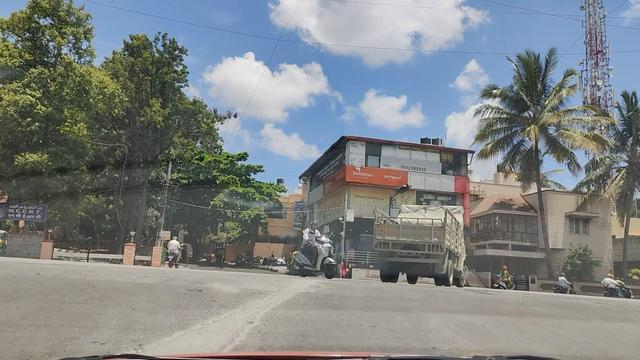HMV: (378, 196, 456, 284)
LMV: (288, 223, 345, 275)
RoadDamages: (116, 279, 280, 358)
